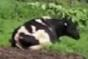cow: (11, 16, 80, 50)
